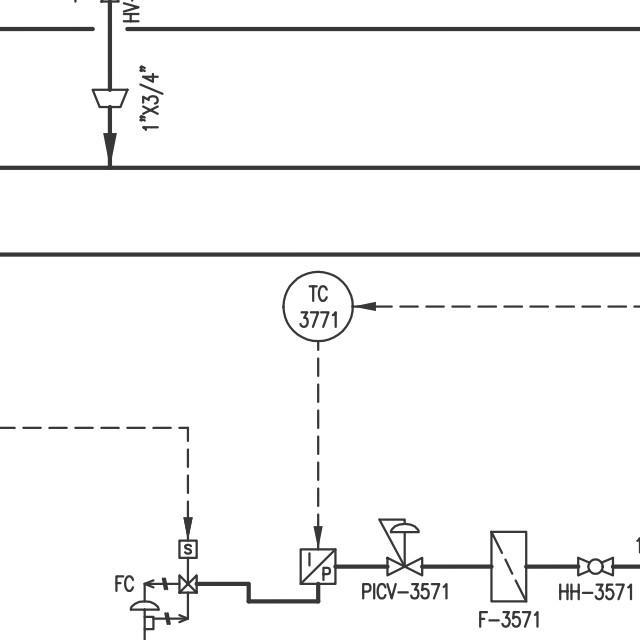BV2: (573, 553, 616, 577)
EPA: (295, 545, 338, 591)
F2: (485, 523, 532, 607)
PCV: (370, 513, 428, 580)
SP: (86, 85, 131, 112)
